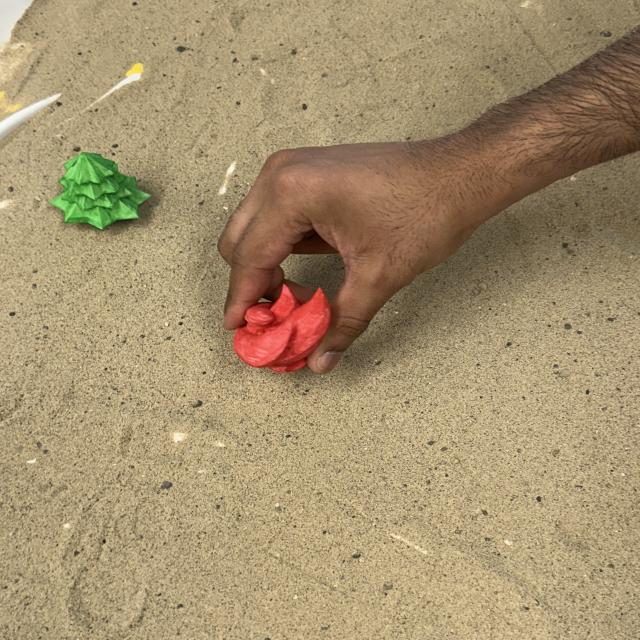fire: (230, 281, 333, 374)
tree: (48, 150, 152, 231)
